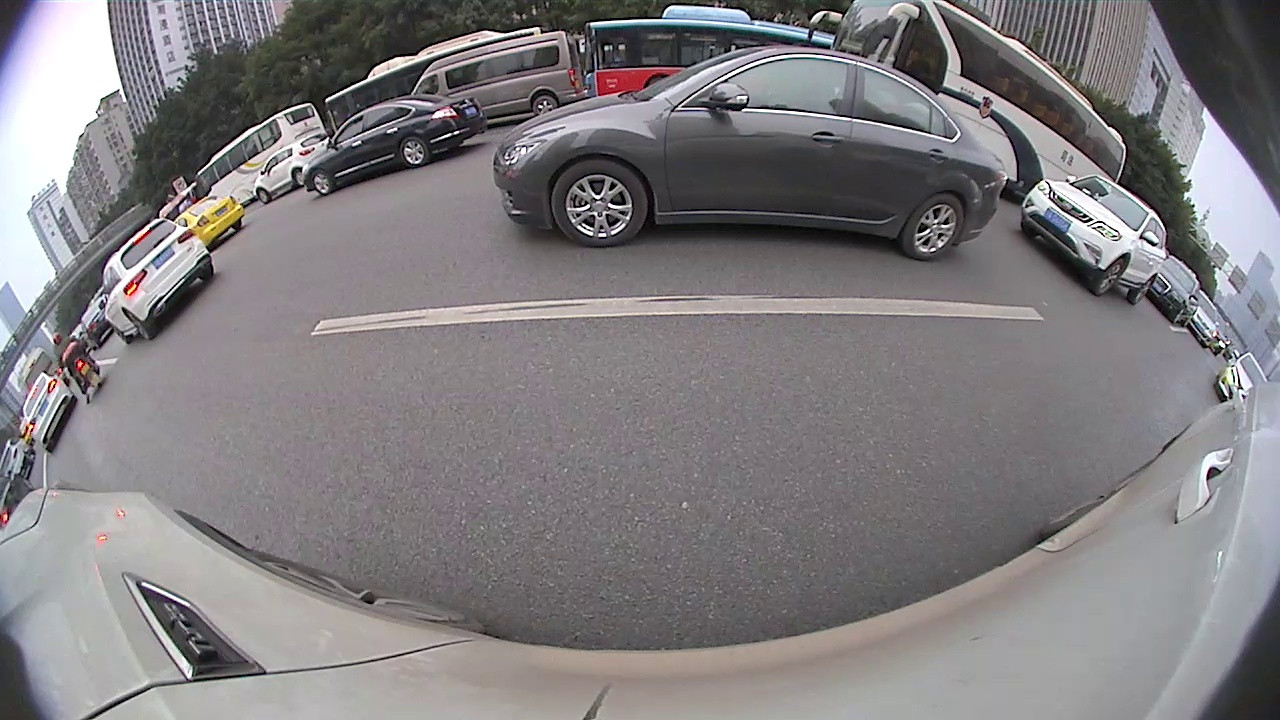bus: (805, 3, 1127, 193), (323, 23, 548, 136), (583, 3, 844, 94), (193, 98, 326, 208)
car: (493, 46, 1007, 265), (1016, 172, 1175, 307), (299, 92, 489, 196), (95, 212, 216, 343), (407, 32, 580, 117), (253, 131, 345, 202), (167, 192, 247, 248), (17, 372, 74, 450), (1151, 255, 1200, 330), (1216, 349, 1264, 423), (1187, 289, 1218, 356), (0, 439, 30, 488)
front: (553, 159, 648, 248), (1092, 258, 1128, 294), (107, 321, 131, 343), (312, 171, 333, 194), (256, 188, 270, 202)
rear: (901, 193, 966, 260), (399, 138, 429, 168), (1125, 275, 1156, 304), (125, 311, 154, 338), (534, 97, 556, 116), (293, 170, 307, 185)
rider: (48, 330, 102, 400)
